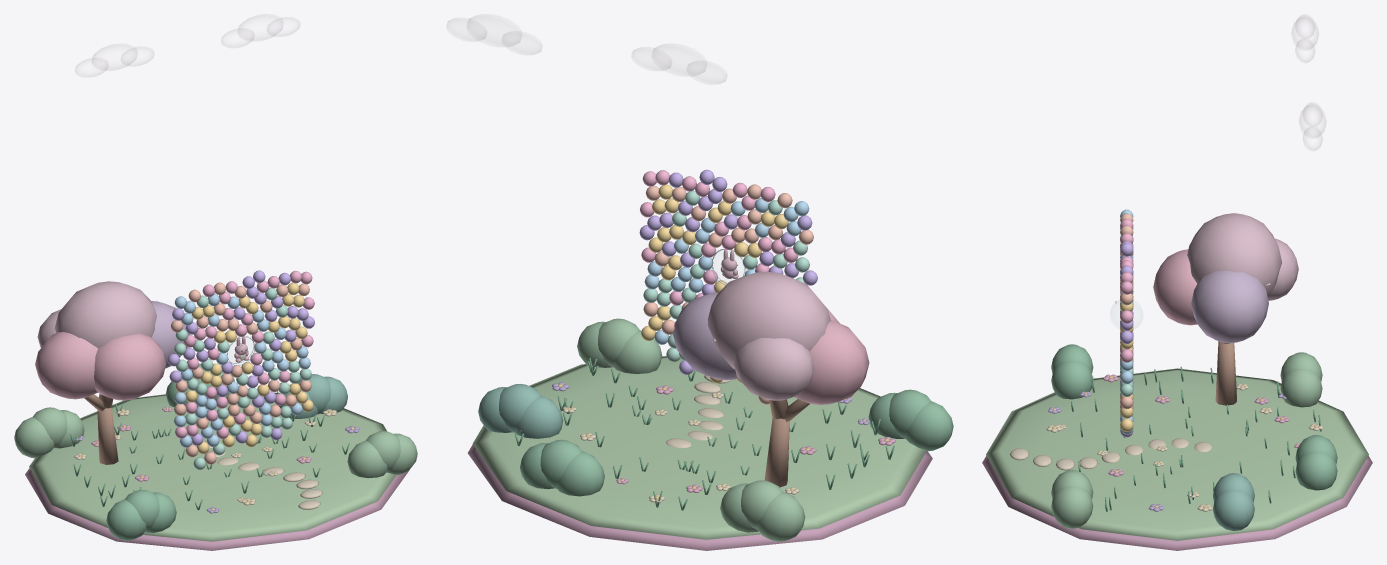
Rendered from garden.glb.
The picture shows the model from 3 angles, left to right: view 1: azimuth 30°, elevation 25°; view 2: azimuth 150°, elevation 25°; view 3: azimuth 270°, elevation 25°; orthographic projection. The views are drawn at different scales.
Visible parts, largest first — view 1: Garden, Solid bubbles, Clouds; view 2: Garden, Solid bubbles, Clouds; view 3: Garden, Solid bubbles, Clouds.
Part boxes in pixels (box(x1,y1,x2,y2)): Garden: box(14, 281, 417, 550); Solid bubbles: box(167, 270, 314, 469); Clouds: box(75, 14, 299, 77); Garden: box(468, 271, 953, 550); Solid bubbles: box(639, 169, 817, 404); Clouds: box(446, 14, 727, 84); Garden: box(982, 213, 1372, 550); Solid bubbles: box(1120, 209, 1133, 437); Clouds: box(1291, 14, 1326, 150).
Bounding box in the file's own units: 11.1 × 12.71 × 10.4.
